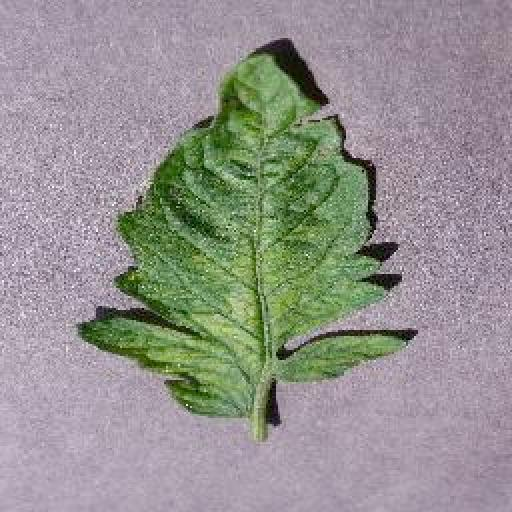Mosaic Virus: (78, 46, 412, 418)
